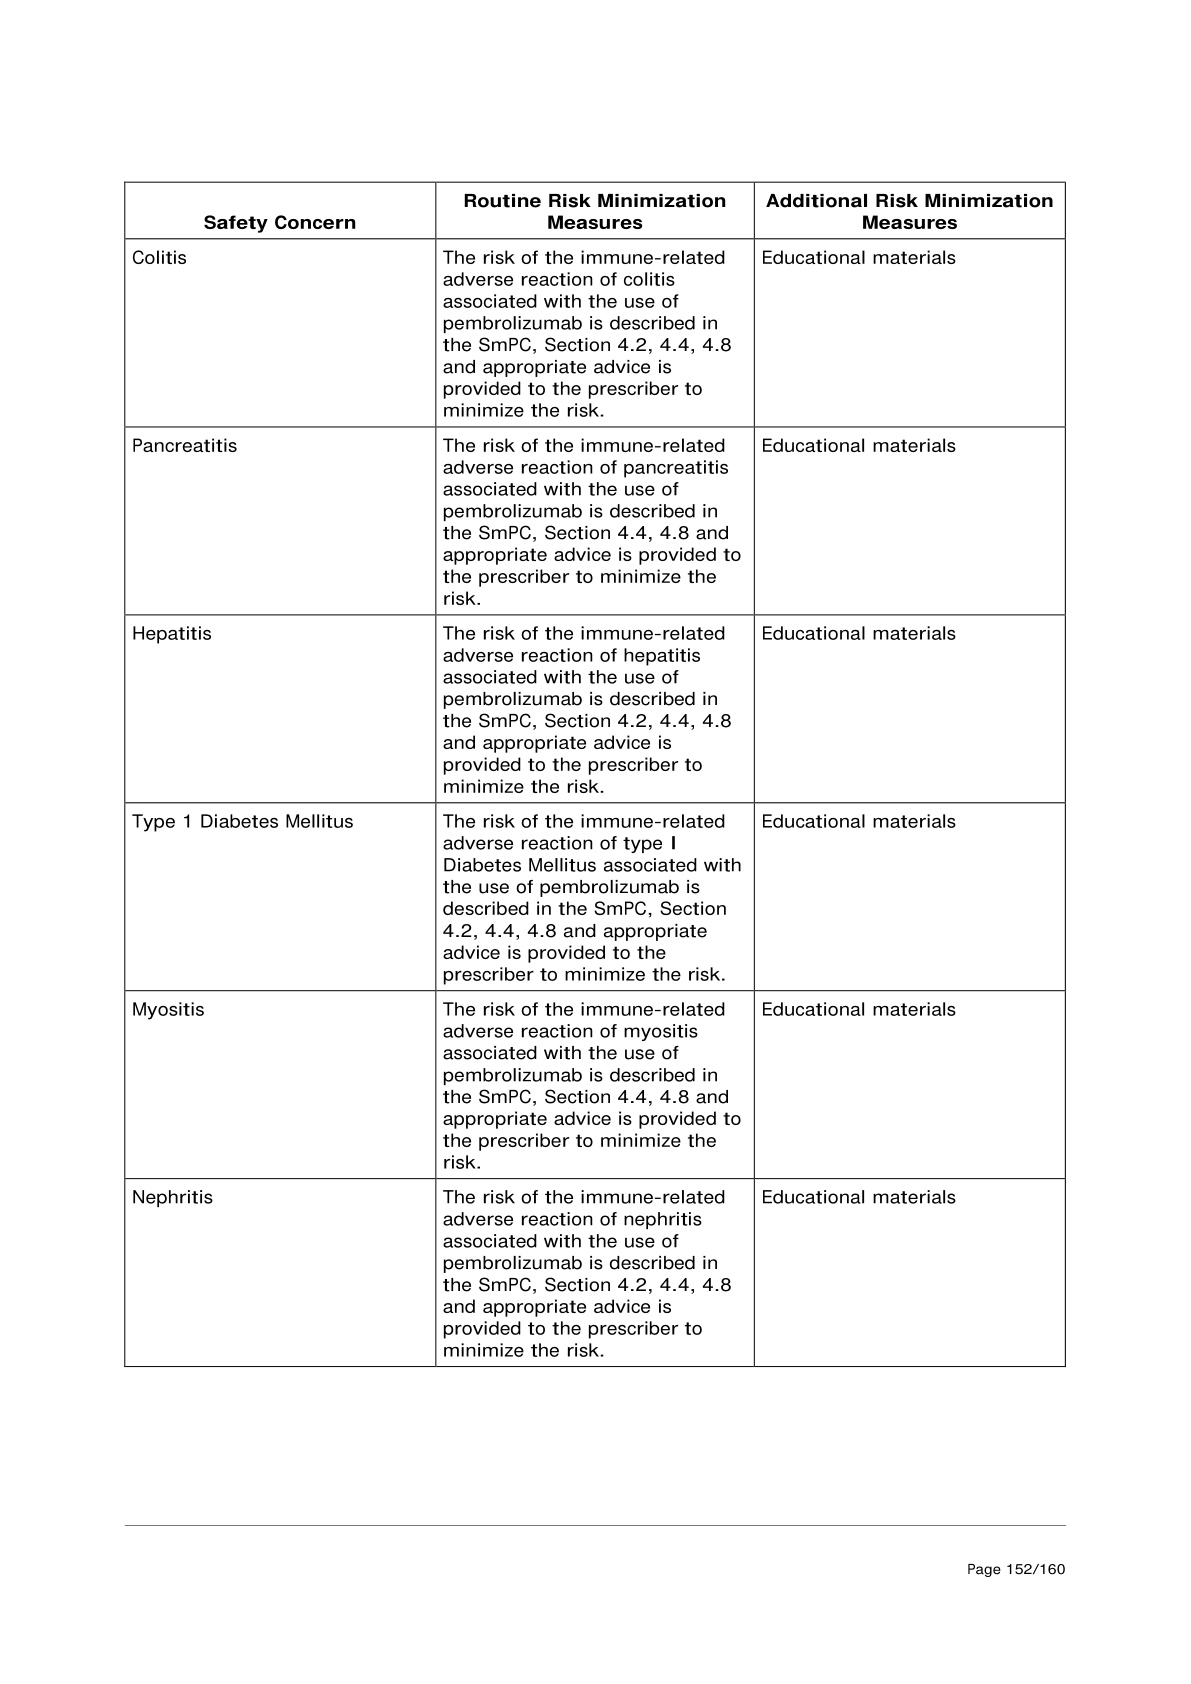full_lined: (122, 180, 1067, 1370)
